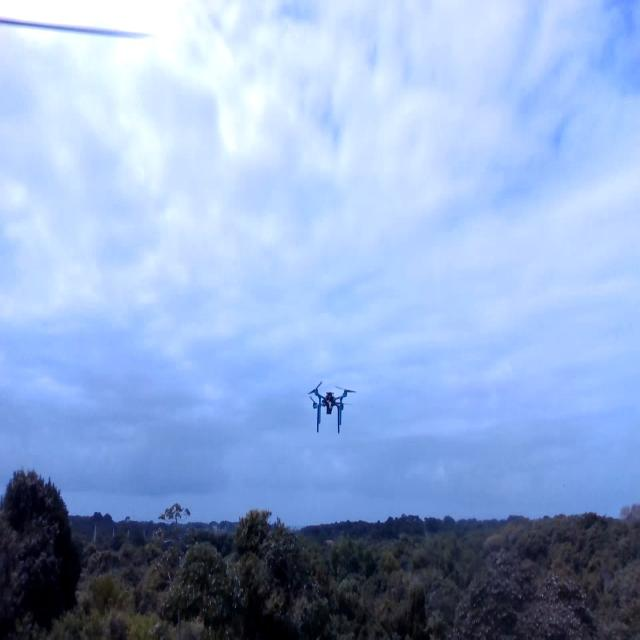-uav-: (300, 367, 358, 438)
